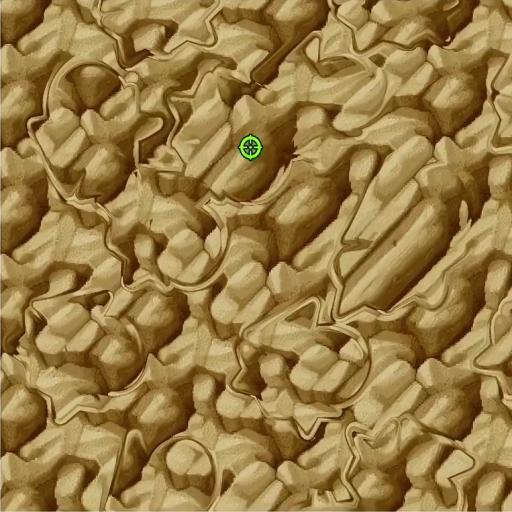Target: (148, 63, 308, 219), (19, 58, 169, 222), (224, 292, 373, 440), (84, 171, 252, 298), (14, 287, 158, 426), (329, 412, 476, 512), (97, 418, 229, 511), (84, 1, 232, 67)
